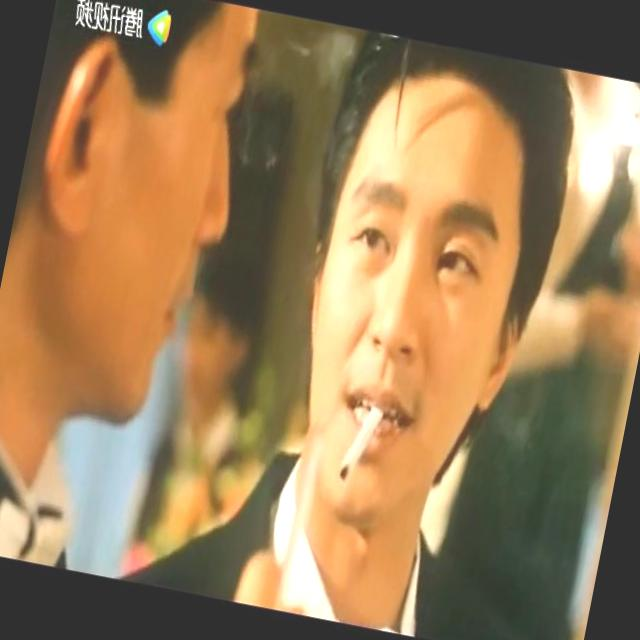cigarette: (332, 374, 398, 504)
